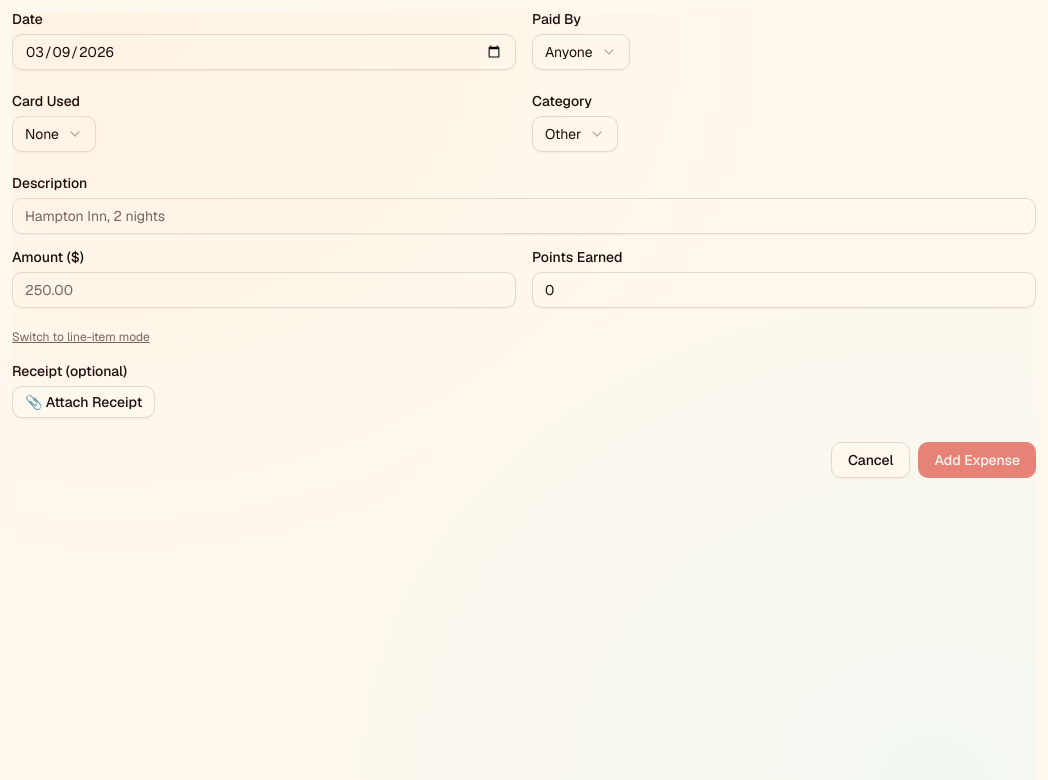
Scenario: Form submission › shows API error message on failed submission
In the field labelled "Description": (524, 216) [12, 198, 1036, 234], type "Hotel"
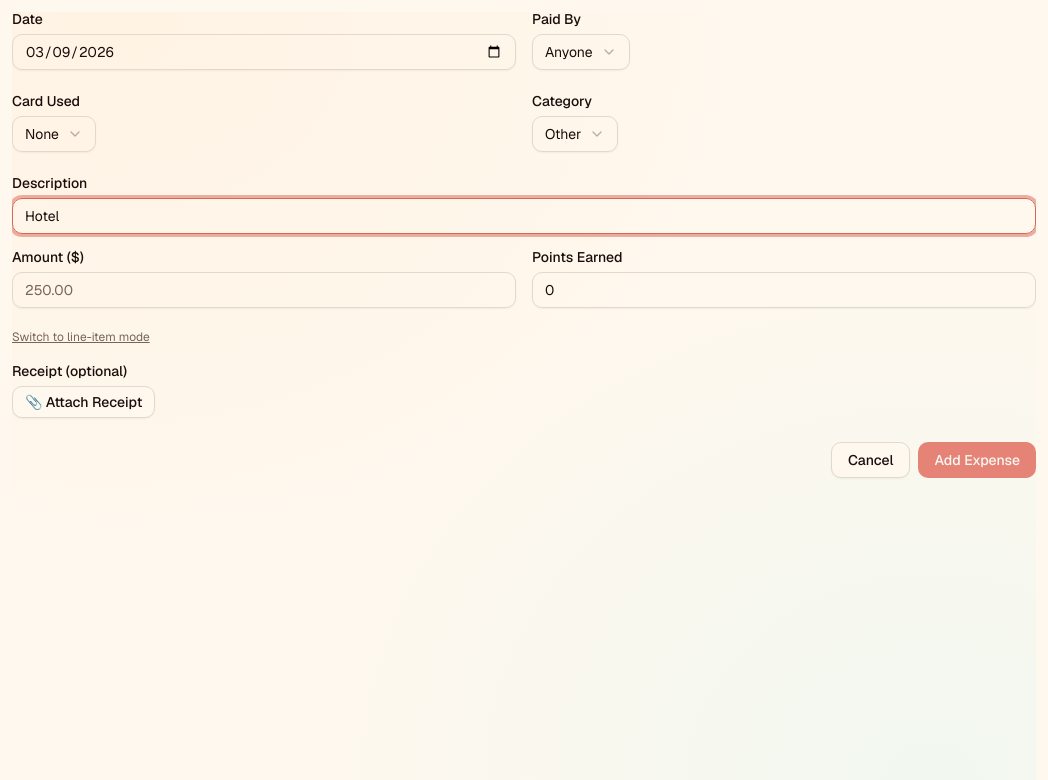
In the number field labelled "Amount ($)": (264, 290) [12, 272, 516, 308], type "99999"
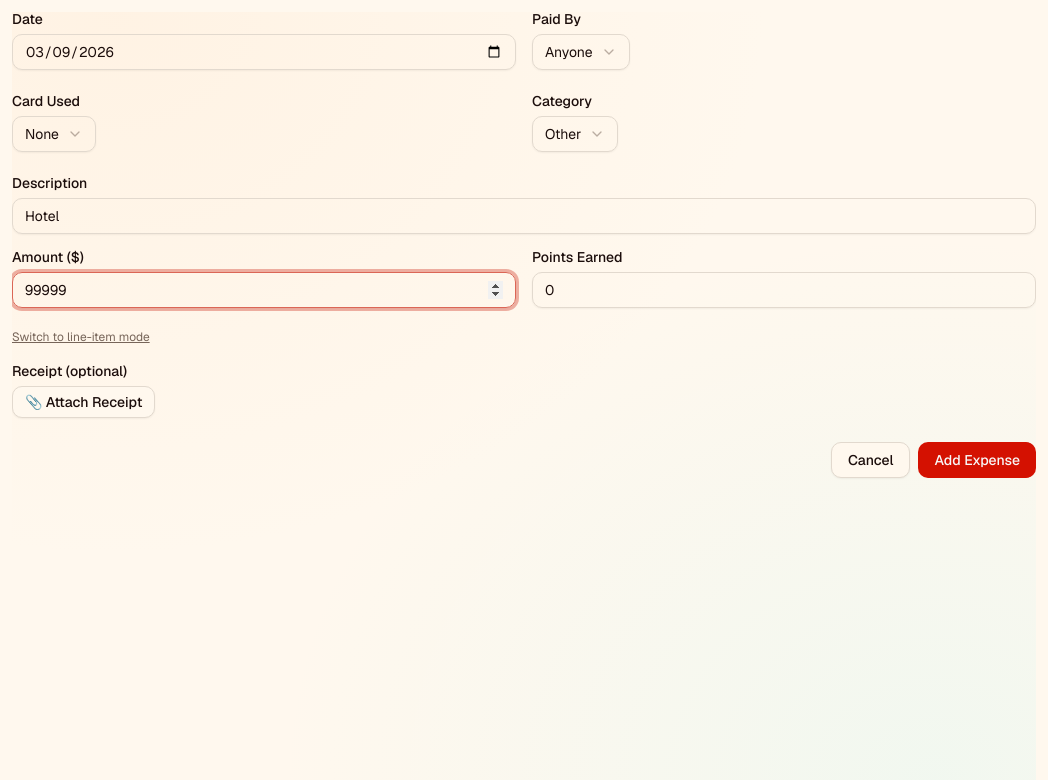
Click the button "Add Expense": (977, 460) [918, 442, 1036, 478]
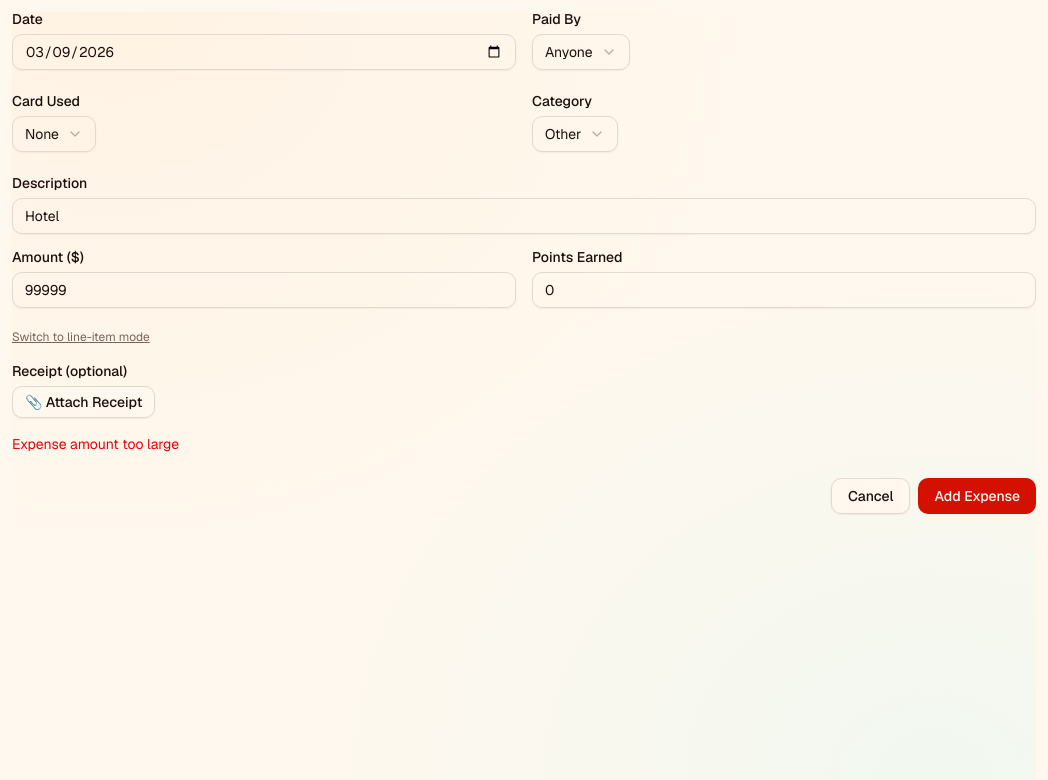
Expected: the text "Expense amount too large" is shown, [12, 435, 179, 453]
